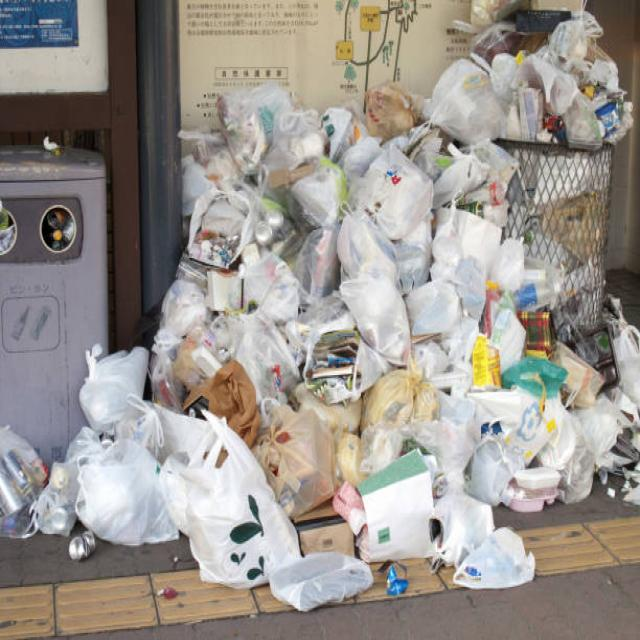trash: (183, 100, 619, 474)
